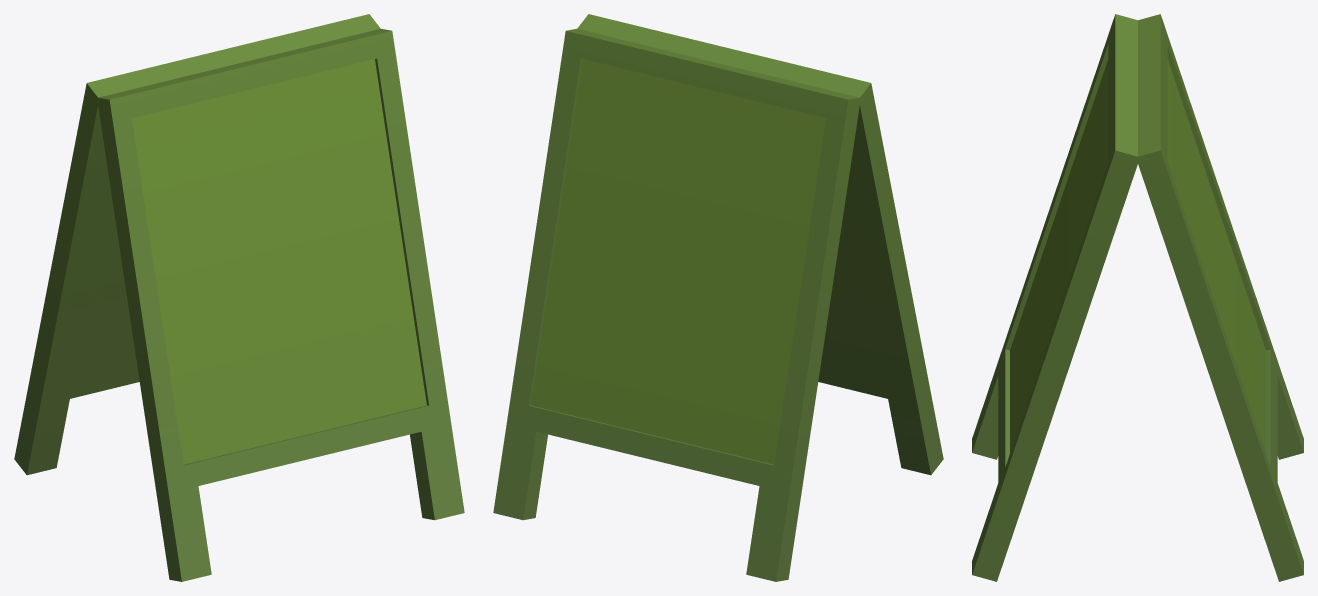
The model's file is Menu_02.fbx.
3 renders of one model, left to right at view 1: azimuth 30°, elevation 25°; view 2: azimuth 150°, elevation 25°; view 3: azimuth 270°, elevation 25°, orthographic.
Parts seen in each view (by area): view 1: Menu_02; view 2: Menu_02; view 3: Menu_02.
Part boxes in pixels (x1,y1,x2,y2): Menu_02: (14, 14, 464, 581); Menu_02: (493, 14, 943, 581); Menu_02: (972, 14, 1303, 581).
Bounding box in the file's own units: 0.5486 × 0.8088 × 0.5636.
